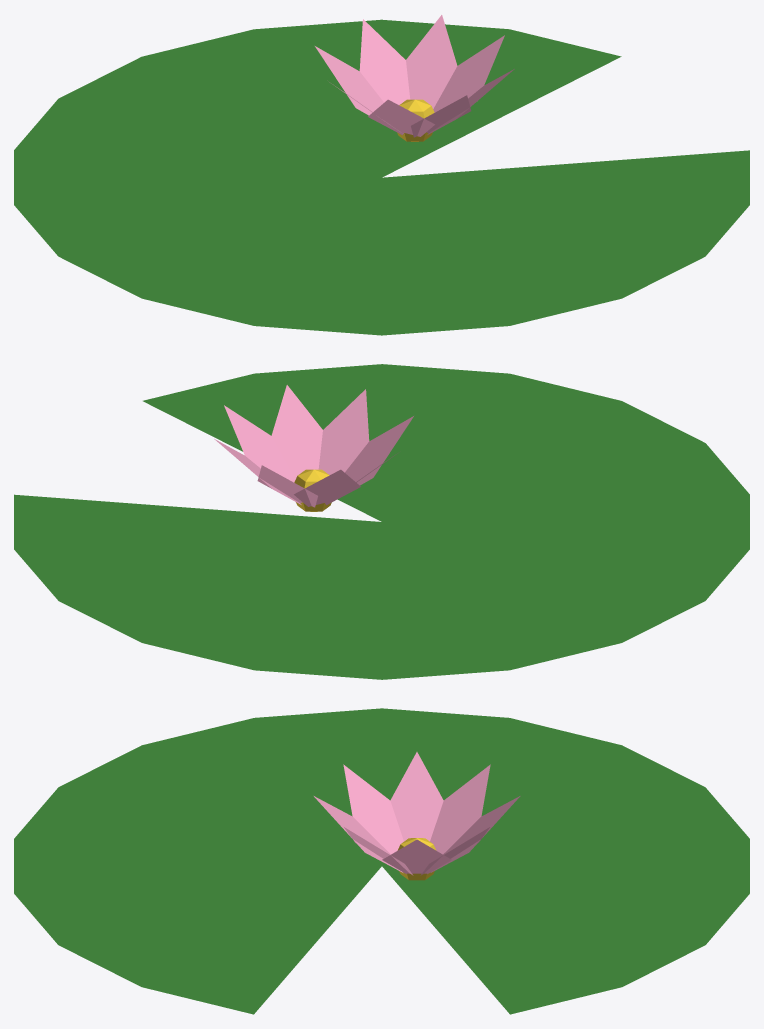
The model's file is LilyPad_Flower.fbx.
3 renders of one model, top to bottom at view 1: azimuth 30°, elevation 25°; view 2: azimuth 150°, elevation 25°; view 3: azimuth 270°, elevation 25°, orthographic.
Visible parts, largest first — view 1: LilyPad_Flower.001; view 2: LilyPad_Flower.001; view 3: LilyPad_Flower.001.
Boxes of the visible parts, <box> form: LilyPad_Flower.001: <box>14,15,749,335</box>; LilyPad_Flower.001: <box>14,364,749,679</box>; LilyPad_Flower.001: <box>14,708,749,1014</box>.
Size of the model in its own units: 0.6206 by 0.0903 by 0.6303.
